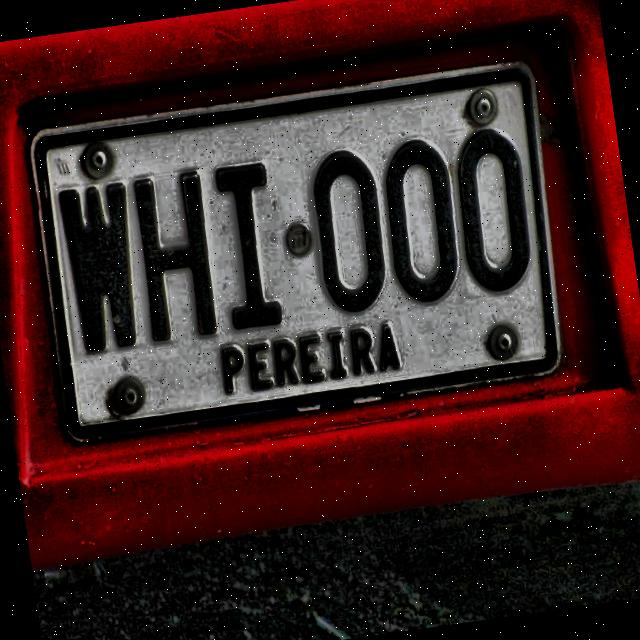0: (375, 133, 471, 315), (446, 122, 542, 298), (301, 146, 395, 316)
H: (126, 162, 226, 350)
I: (204, 154, 296, 338)
W: (54, 175, 150, 358)
